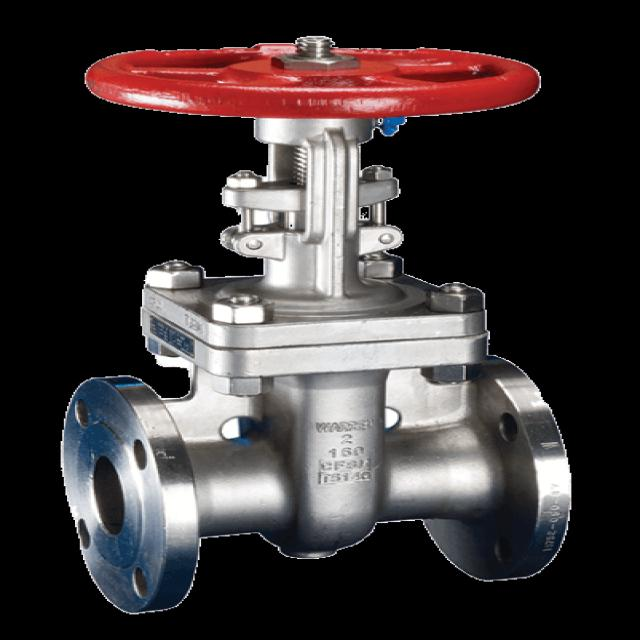Wheel Handle Valve Threaded: (48, 28, 563, 151)
